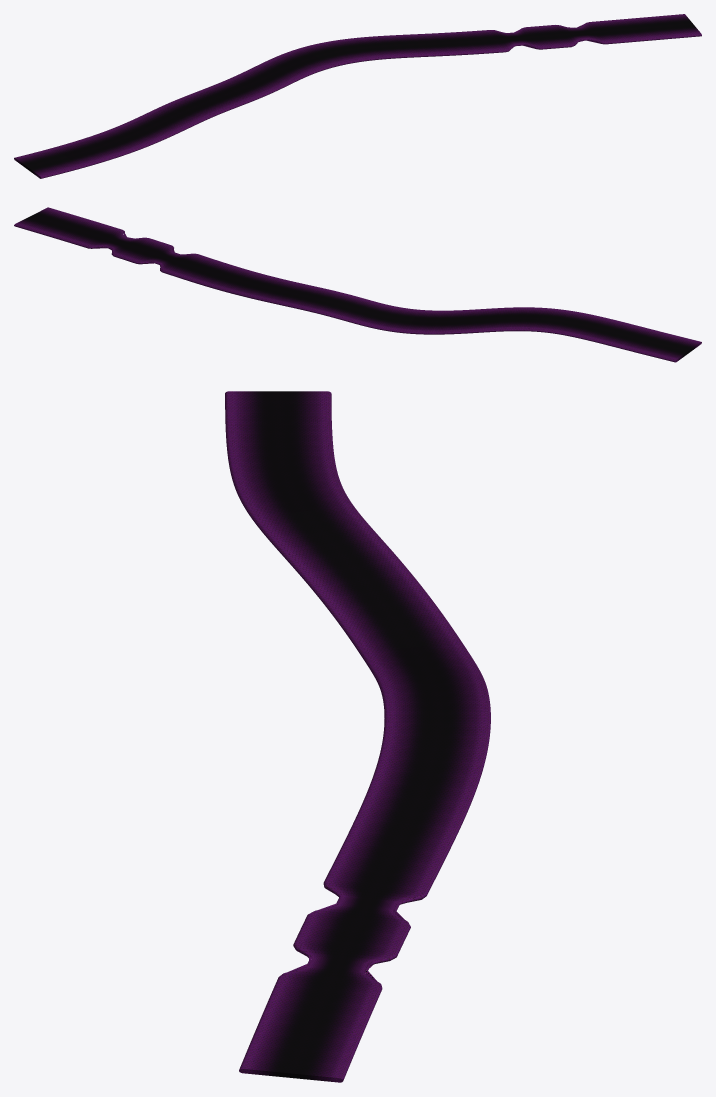
File: level-1-track-3.glb
3 views of the same model, one above another, from view 1: azimuth 30°, elevation 25°; view 2: azimuth 150°, elevation 25°; view 3: azimuth 270°, elevation 25° (orthographic). The views are drawn at different scales.
Parts seen in each view (by area): view 1: track-03; view 2: track-03; view 3: track-03.
Boxes of the visible parts, x1,y1,x2,y2 form: track-03: (14, 14, 701, 178); track-03: (14, 207, 701, 362); track-03: (225, 391, 490, 1082).
Size of the model in its own units: 119 by 5 by 20.87.
2 materials, 2 textured.
